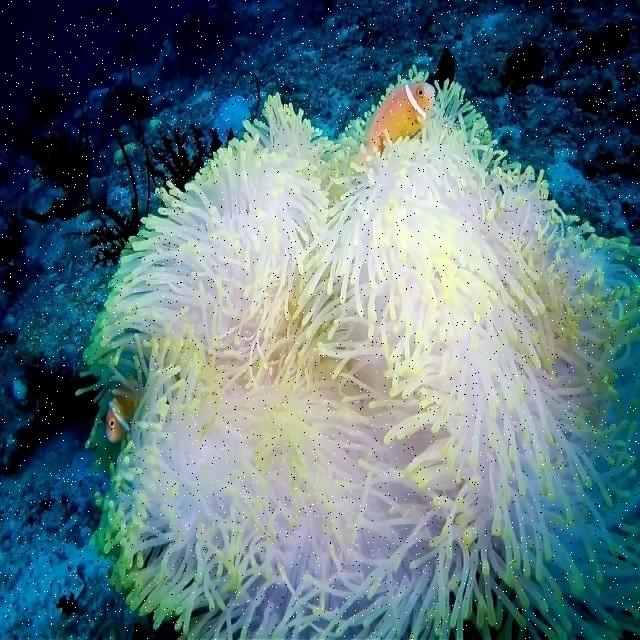fish: (365, 84, 432, 153), (107, 394, 136, 441)
reefs: (78, 68, 639, 639)
